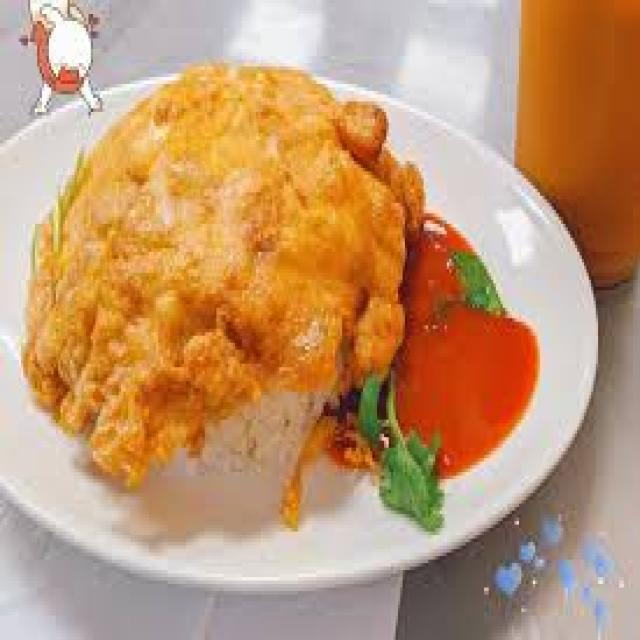carb: (101, 354, 332, 514)
meat: (52, 111, 388, 383)
omelette rice: (31, 41, 381, 529)
